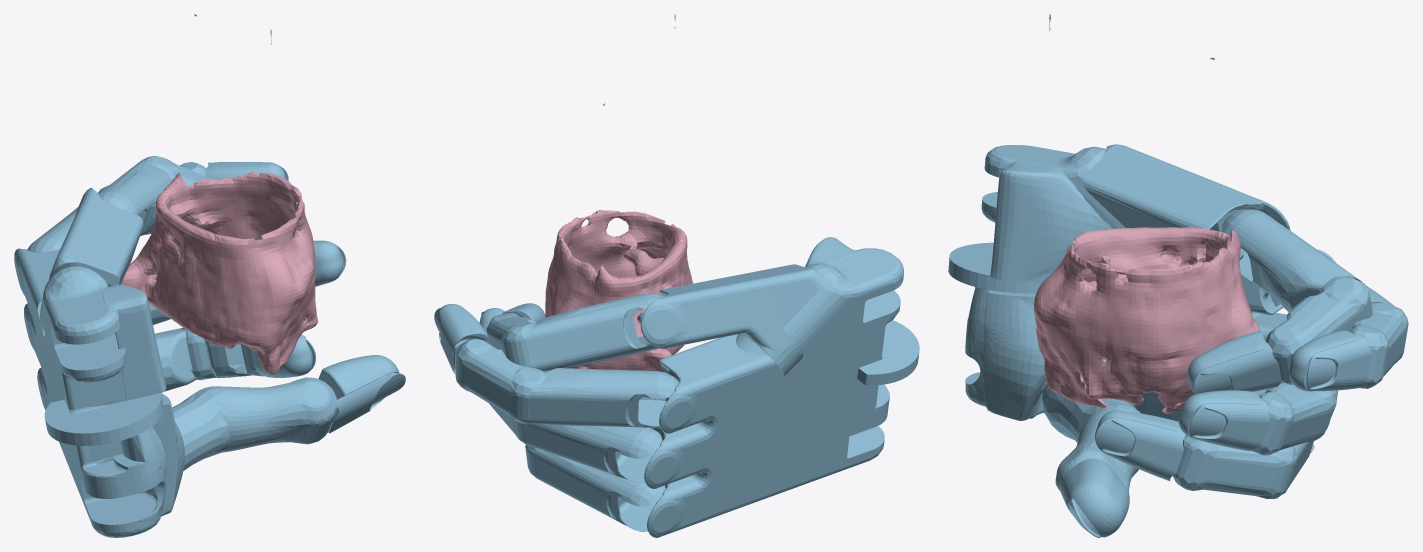
3 renders of one model, left to right at view 1: azimuth 30°, elevation 25°; view 2: azimuth 150°, elevation 25°; view 3: azimuth 270°, elevation 25°, orthographic. The views are drawn at different scales.
Parts seen in each view (by area): view 1: hand, world; view 2: hand, world; view 3: hand, world.
Part boxes in pixels (box(x1,y1,x2,y2)): hand: box(14, 156, 405, 537); world: box(121, 14, 318, 374); hand: box(434, 237, 919, 537); world: box(545, 14, 692, 371); hand: box(948, 144, 1408, 537); world: box(1034, 14, 1259, 413).
Bounding box in the file's own units: 0.1463 × 0.1635 × 0.1403.
